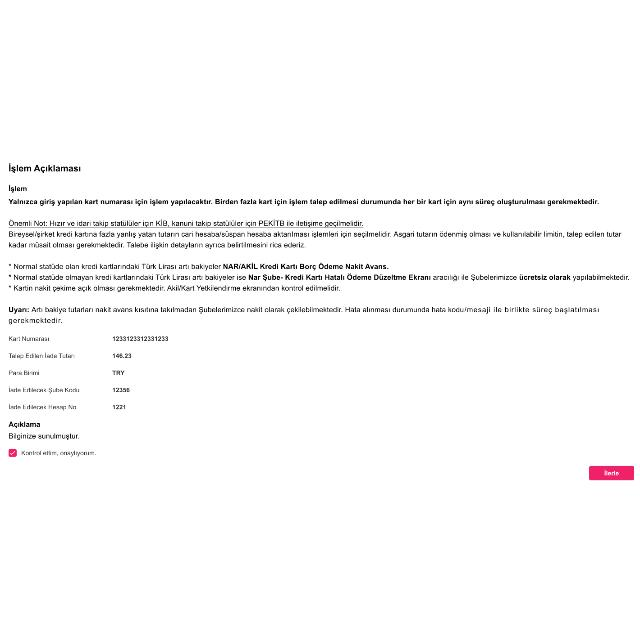QLabel: (8, 230, 622, 250), (8, 198, 600, 206), (32, 306, 600, 314), (8, 218, 364, 228), (8, 284, 340, 292), (8, 273, 246, 281), (8, 262, 222, 270), (223, 262, 389, 270), (248, 274, 432, 280), (8, 162, 80, 172), (20, 449, 96, 457), (8, 386, 80, 394), (8, 432, 80, 440), (8, 403, 76, 411), (9, 352, 75, 360), (434, 274, 518, 280), (112, 334, 170, 342), (572, 274, 630, 280), (8, 334, 50, 342), (8, 318, 62, 324), (520, 274, 570, 280), (8, 368, 40, 376), (8, 420, 40, 428), (8, 304, 30, 314), (7, 184, 27, 192), (602, 469, 620, 476), (112, 352, 132, 358), (111, 368, 125, 376), (112, 386, 130, 392), (112, 404, 126, 410)
VBtn: (589, 465, 635, 481)
VCheckbox: (7, 448, 17, 458)
